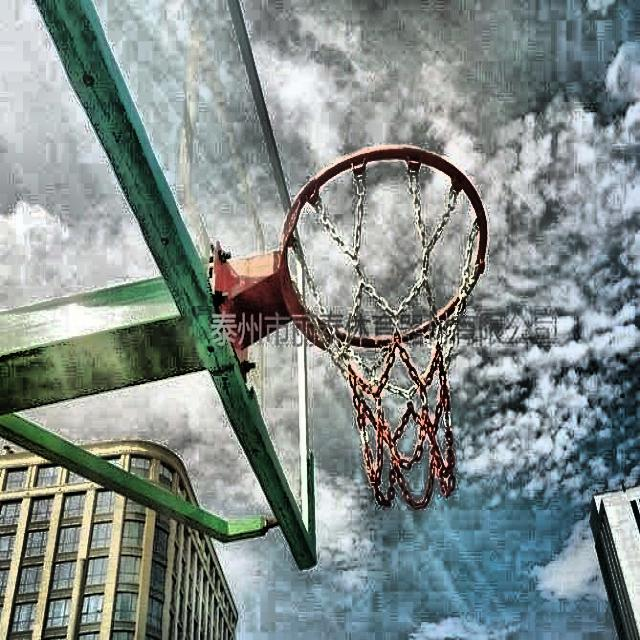rim: (280, 145, 490, 506)
